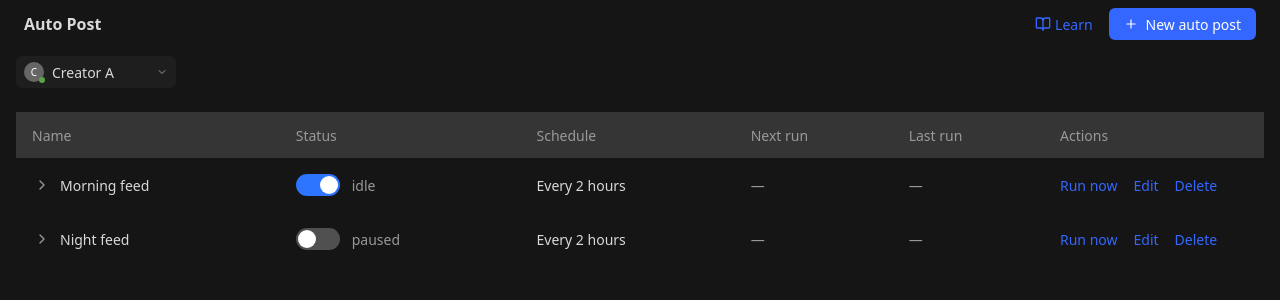
it: Auto Post (ReadyMadePanel only=auto_posts) › opens previous runs from the Name cell's chevron
Click the button named "Previous runs of Morning feed" at {"x": 42, "y": 185}, box [32,175,52,195]
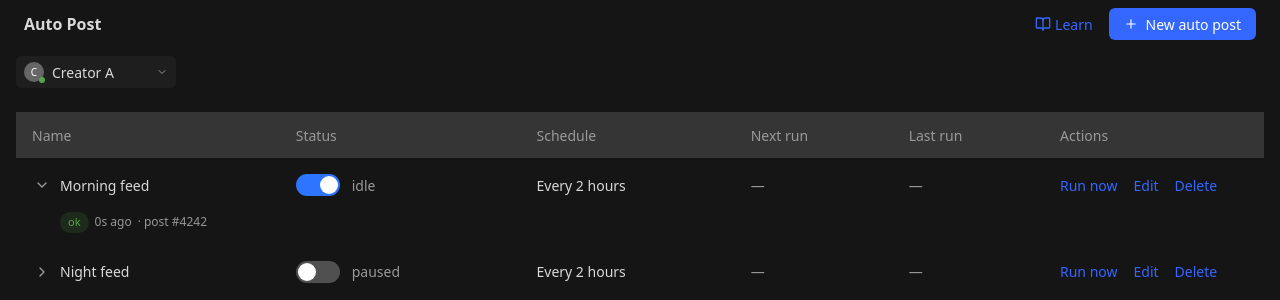
Expected: the button named "Previous runs of Morning feed" is expanded, [32,175,52,195]
Expected: the text "· post #4242" is shown, [138,213,207,231]
